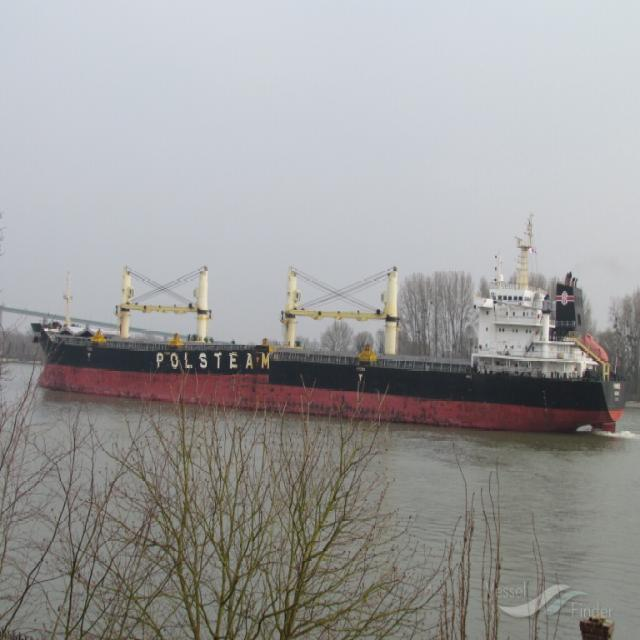OCR: (151, 345, 269, 392)
